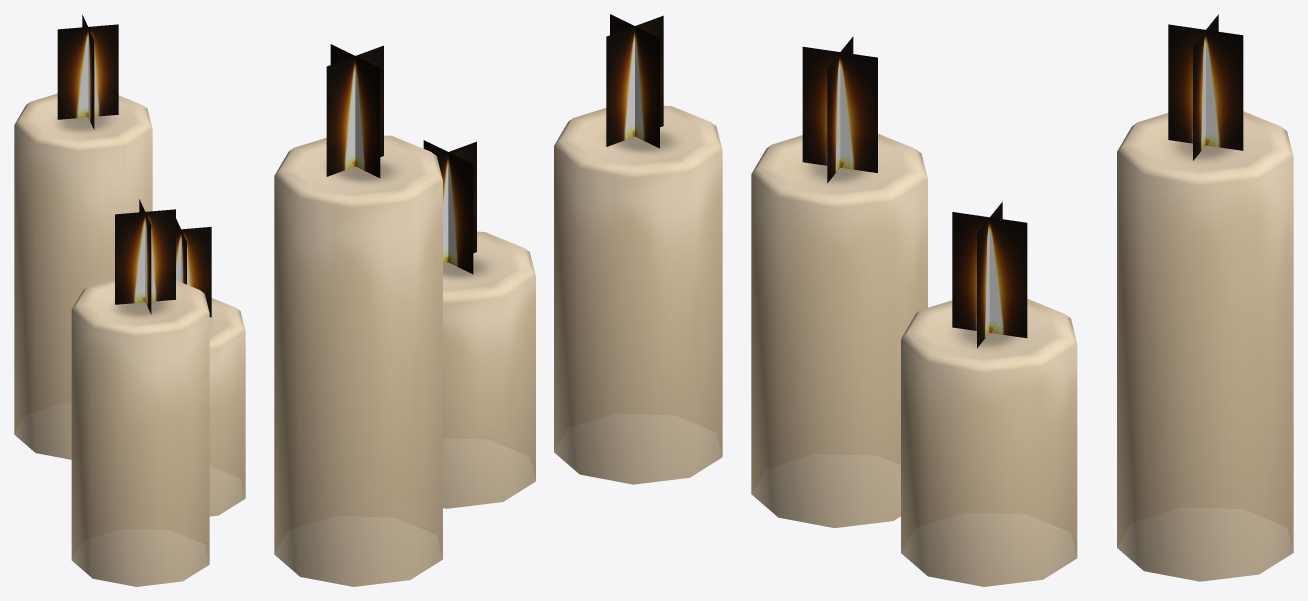
Rendered from camdle_small.fbx.
3 renders of one model, left to right at view 1: azimuth 30°, elevation 25°; view 2: azimuth 150°, elevation 25°; view 3: azimuth 270°, elevation 25°, orthographic. The views are drawn at different scales.
Parts seen in each view (by area): view 1: candles_small.001; view 2: candles_small.001; view 3: candles_small.001.
Part boxes in pixels (x1=…): candles_small.001: x1=14, y1=14, x2=245, y2=586; candles_small.001: x1=274, y1=14, x2=722, y2=586; candles_small.001: x1=751, y1=14, x2=1293, y2=586.
Size of the model in its own units: 22.04 by 39.87 by 37.93.
